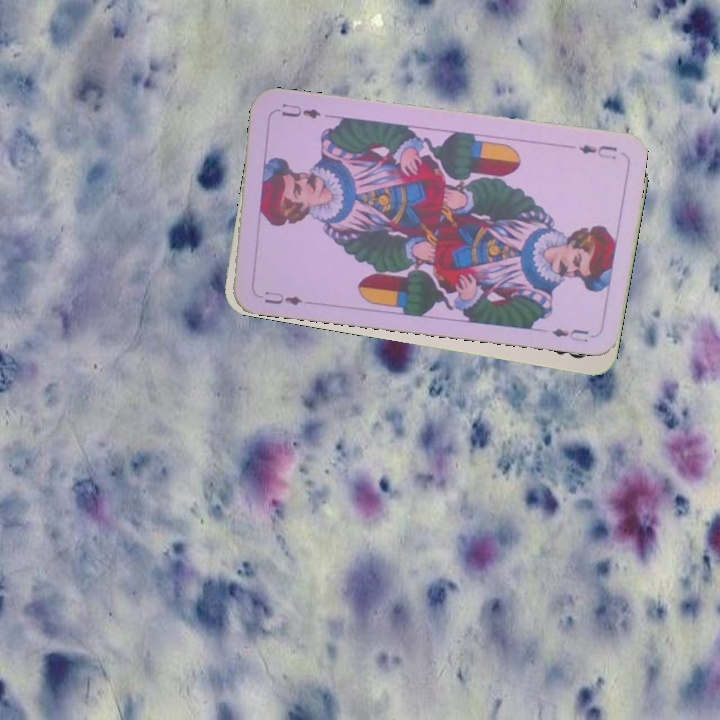EU: (574, 141, 620, 162), (260, 287, 305, 308)
